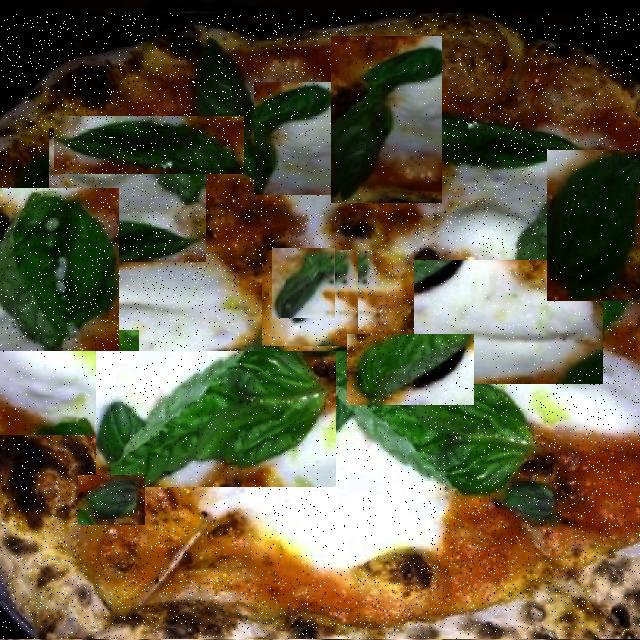Basil: (96, 351, 336, 487), (0, 188, 119, 351), (332, 36, 444, 203), (547, 150, 640, 301), (55, 116, 244, 174), (347, 334, 474, 405), (272, 248, 335, 318), (78, 475, 145, 525)
Cheese: (188, 325, 420, 579), (414, 260, 603, 384), (49, 128, 208, 262), (254, 82, 404, 195), (0, 330, 139, 435), (262, 250, 358, 346)
Pizza: (0, 13, 640, 640)
